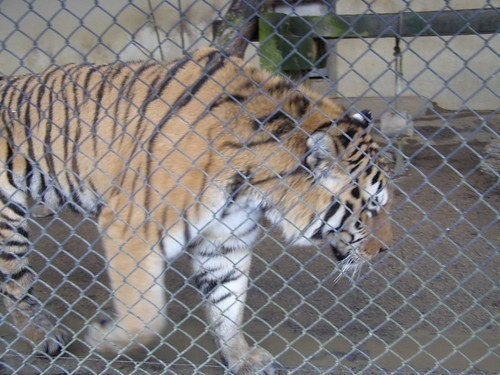tigre: (1, 42, 393, 372)
